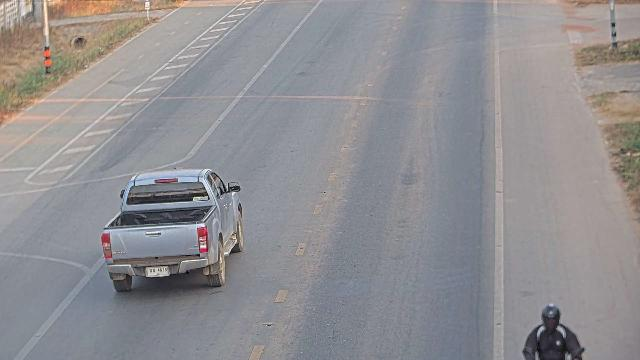pickup-truck: (100, 167, 244, 292)
